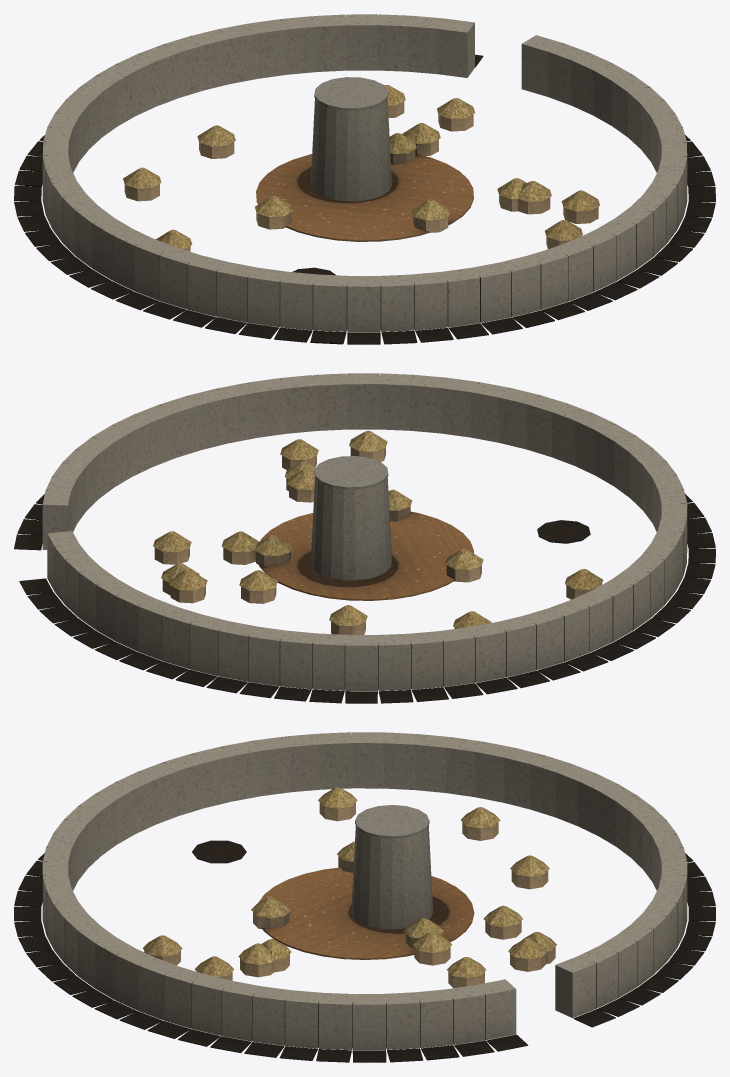
File: walls_of_jericho.glb
3 renders of one model, top to bottom at view 1: azimuth 30°, elevation 25°; view 2: azimuth 150°, elevation 25°; view 3: azimuth 270°, elevation 25°, orthographic.
Parts seen in each view (by area): view 1: LOD0.002, LOD0.001, LOD0; view 2: LOD0.002, LOD0.001, LOD0; view 3: LOD0.002, LOD0.001, LOD0.
Boxes of the visible parts, x1,y1,x2,y2 form: LOD0.002: (14,35,715,344); LOD0.001: (19,14,483,172); LOD0: (256,77,473,241); LOD0.002: (14,373,715,694); LOD0.001: (19,531,483,703); LOD0: (258,456,473,600); LOD0.002: (14,732,571,1062); LOD0.001: (555,764,715,1027); LOD0: (258,805,474,959).
Size of what is drawn, in the model's own units: 7.72 by 1.14 by 7.71.
1 material, 1 textured.
